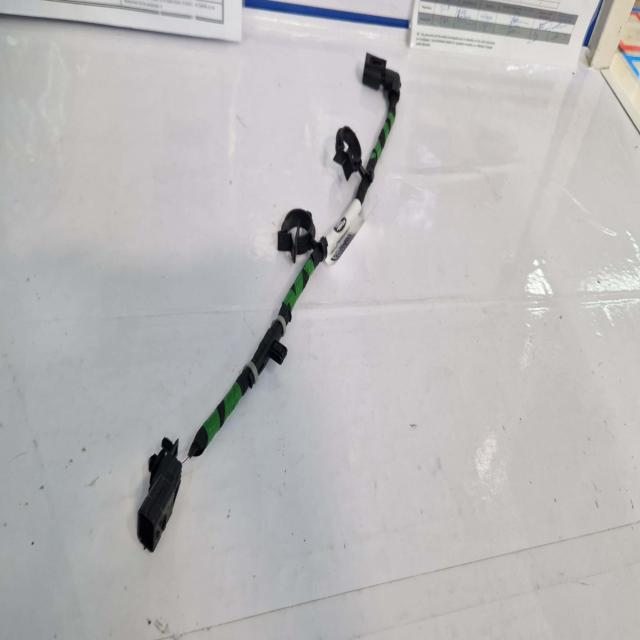AJ20_D6_Cable: (188, 53, 401, 457)
Clip: (334, 127, 372, 182), (278, 209, 315, 262), (149, 437, 179, 479)
Connector: (138, 455, 181, 553), (362, 53, 401, 100)
Info: (325, 195, 378, 266)
strap: (245, 362, 259, 384), (276, 313, 288, 335)
